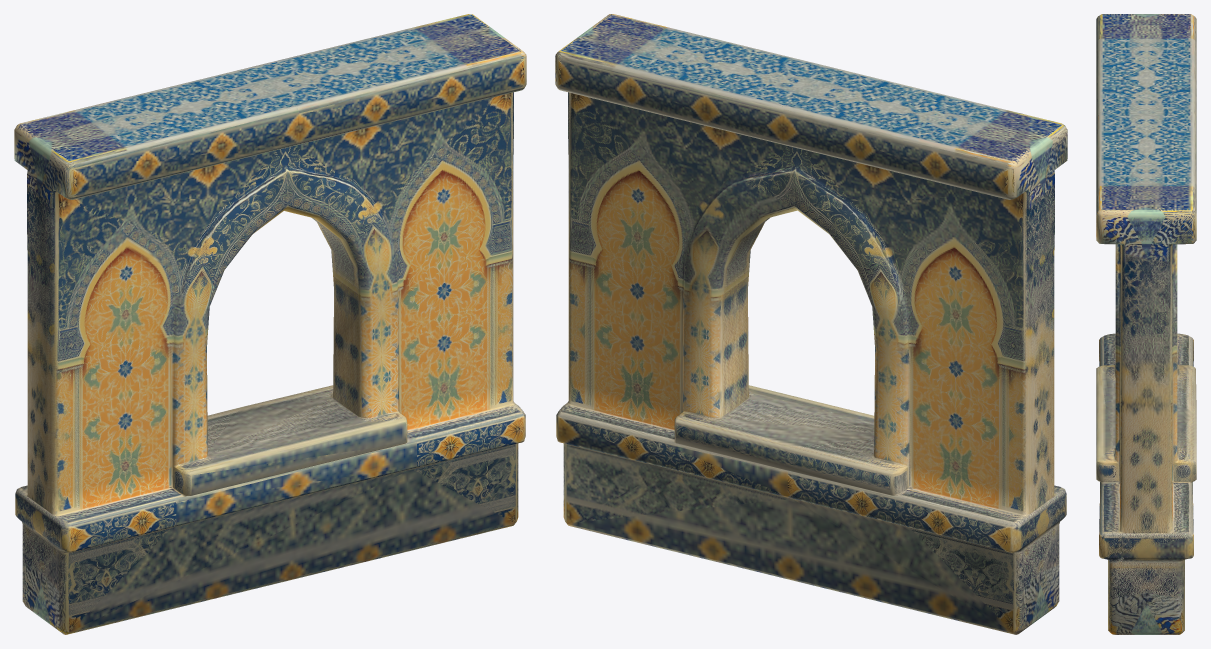
File: Meshy_AI_wall_1017090906_texture.fbx
3 views of the same model, side by side, from view 1: azimuth 30°, elevation 25°; view 2: azimuth 150°, elevation 25°; view 3: azimuth 270°, elevation 25° (orthographic). The views are drawn at different scales.
Visible parts, largest first — view 1: Mesh_0; view 2: Mesh_0; view 3: Mesh_0.
Part boxes in pixels (left/top/right/bottom): Mesh_0: left=14, top=14, right=526, bottom=634; Mesh_0: left=555, top=14, right=1067, bottom=634; Mesh_0: left=1096, top=14, right=1196, bottom=634.
Bounding box in the file's own units: 191 × 188 × 40.31.
1 material, 1 textured.
